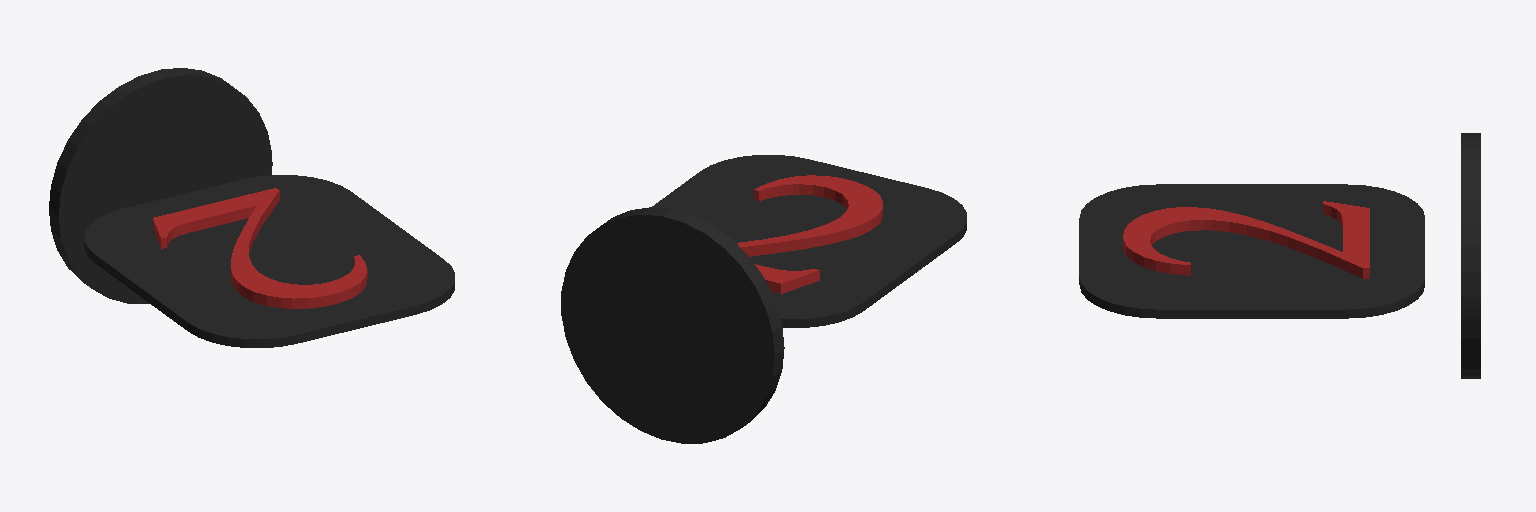
The picture shows the model from 3 angles: view 1: azimuth 30°, elevation 25°; view 2: azimuth 150°, elevation 25°; view 3: azimuth 270°, elevation 25°; orthographic projection.
Parts seen in each view (by area): view 1: ART_GS[number redacted]_A; view 2: ART_GS[number redacted]_A; view 3: ART_GS[number redacted]_A.
Boxes of the visible parts, x1,y1,x2,y2 form: ART_GS[number redacted]_A: [49, 68, 454, 347]; ART_GS[number redacted]_A: [561, 155, 966, 443]; ART_GS[number redacted]_A: [1079, 133, 1480, 378].
Size of the model in its own units: 0.45 by 0.3745 by 0.6088.